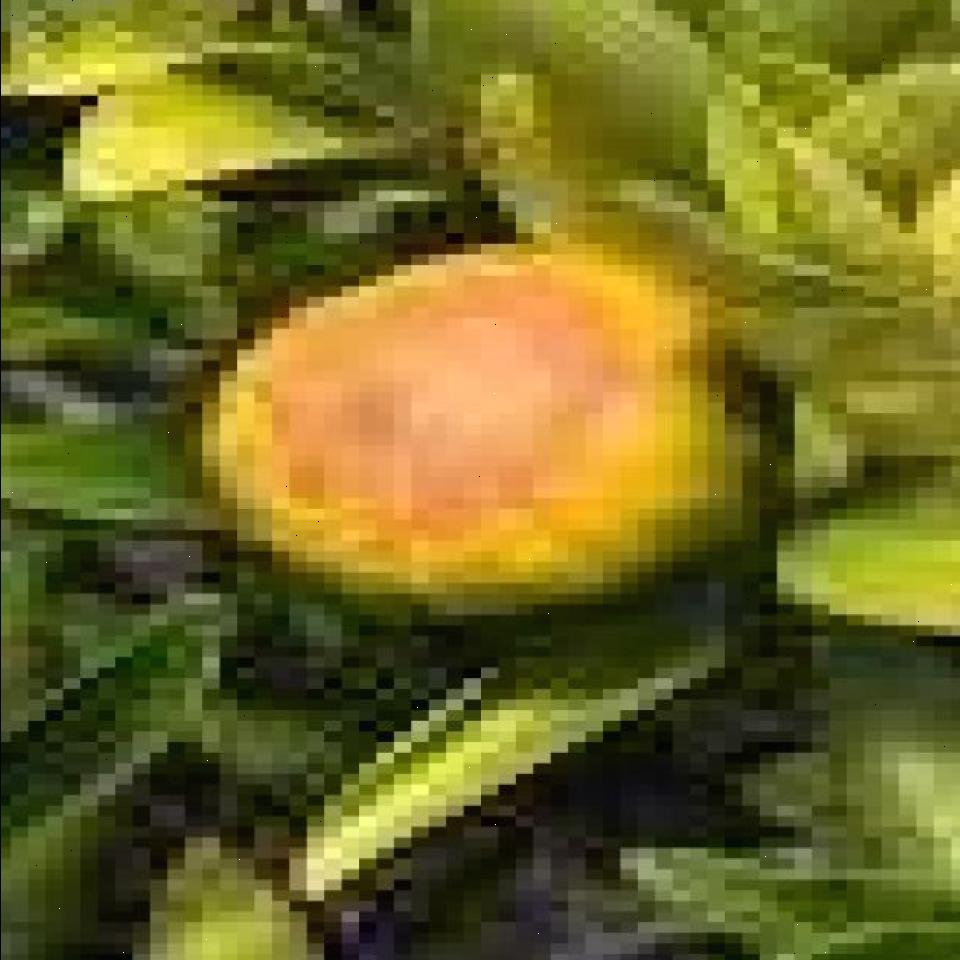Sunscald: (219, 250, 654, 536)
